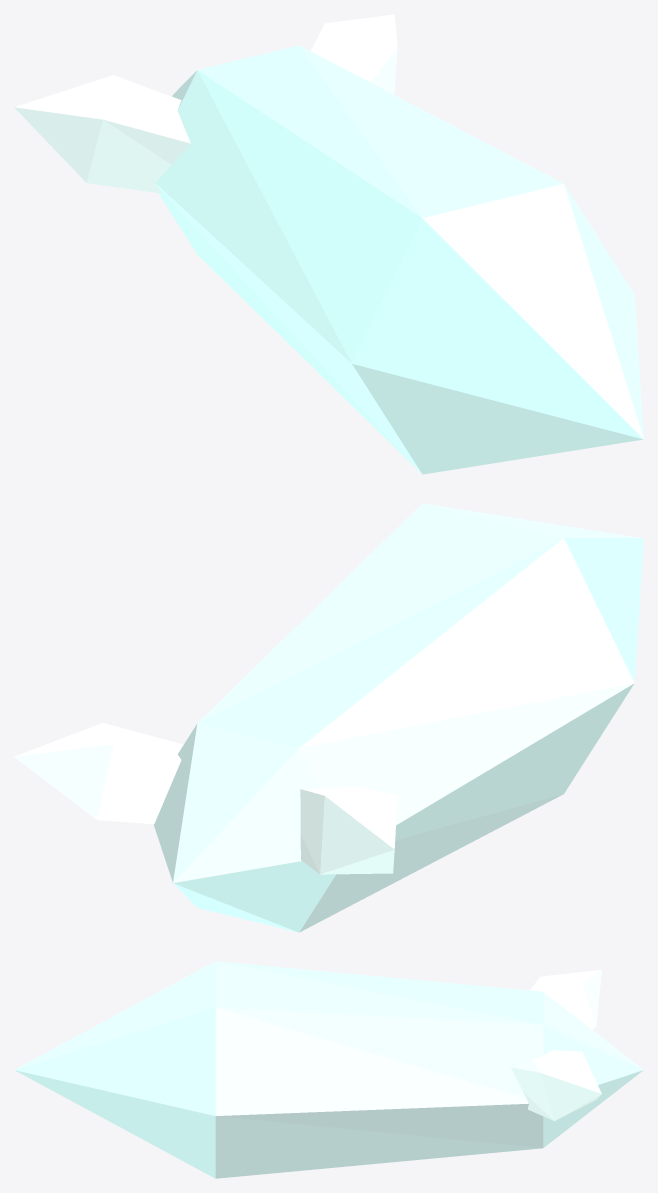
Rendered from proj_crystal.glb.
The picture shows the model from 3 angles, top to bottom: view 1: azimuth 30°, elevation 25°; view 2: azimuth 150°, elevation 25°; view 3: azimuth 270°, elevation 25°; orthographic projection. The views are drawn at different scales.
Visible parts, largest first — view 1: projectile; view 2: projectile; view 3: projectile.
Part boxes in pixels (left/top/right/bottom): projectile: left=14, top=14, right=643, bottom=474; projectile: left=14, top=503, right=643, bottom=932; projectile: left=14, top=961, right=643, bottom=1178.
Size of the model in its own units: 0.14 by 0.0901 by 0.3.
